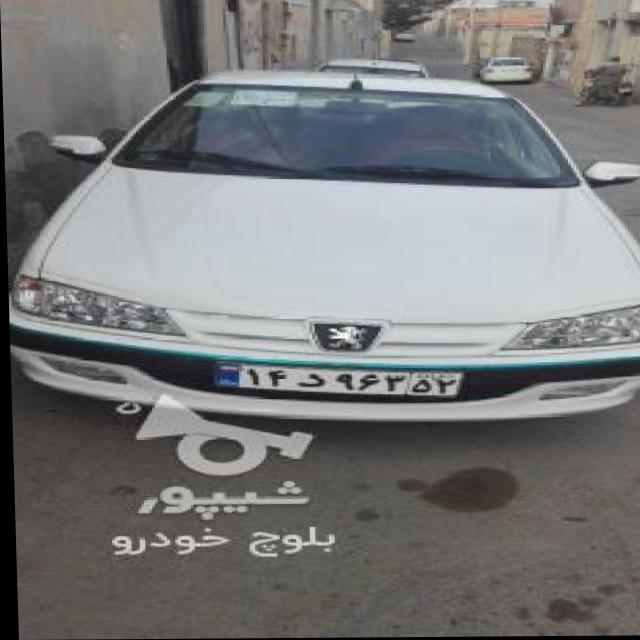licence: (212, 357, 454, 397)
